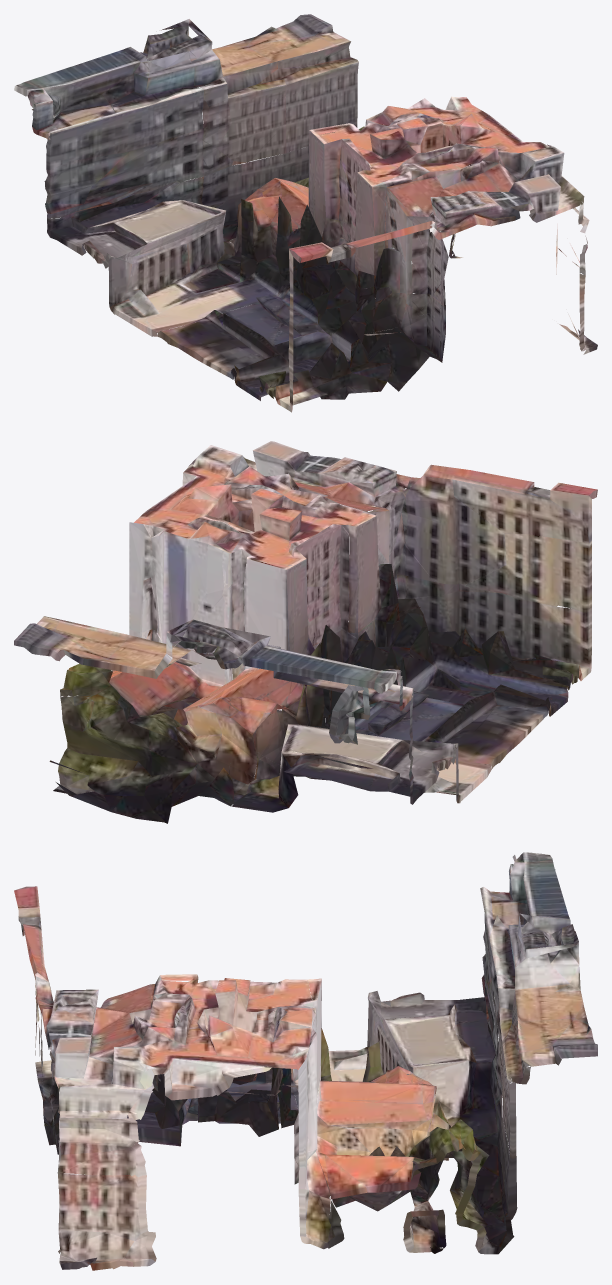
3 views of the same model, one above another, from view 1: azimuth 30°, elevation 25°; view 2: azimuth 150°, elevation 25°; view 3: azimuth 270°, elevation 25° (orthographic). The views are drawn at different scales.
Visible parts, largest first — view 1: Mesh_0; view 2: Mesh_0; view 3: Mesh_0.
Boxes of the visible parts, bbox=[...] form: Mesh_0: bbox=[14, 14, 597, 412]; Mesh_0: bbox=[14, 441, 597, 823]; Mesh_0: bbox=[14, 852, 597, 1270].
Size of the model in its own units: 66.57 by 38.24 by 82.45.
Materials: 1 (1 with a texture image).
